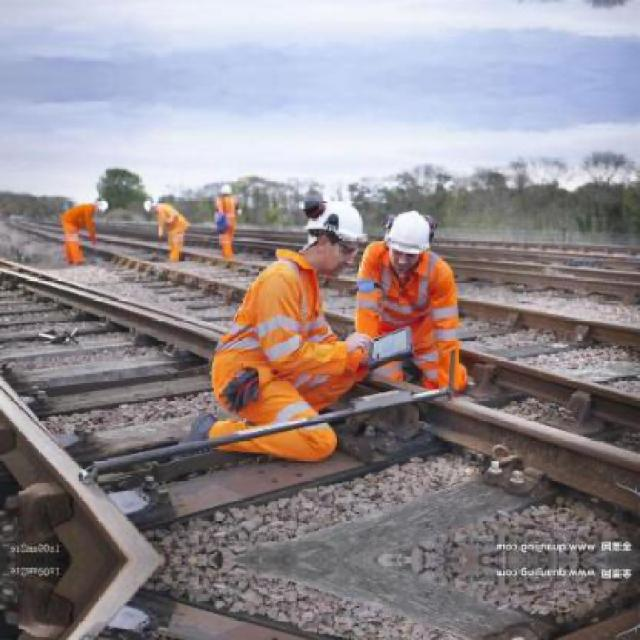helmet: (303, 191, 366, 271), (386, 205, 434, 266), (91, 195, 111, 214), (143, 198, 160, 216), (220, 183, 235, 203)
